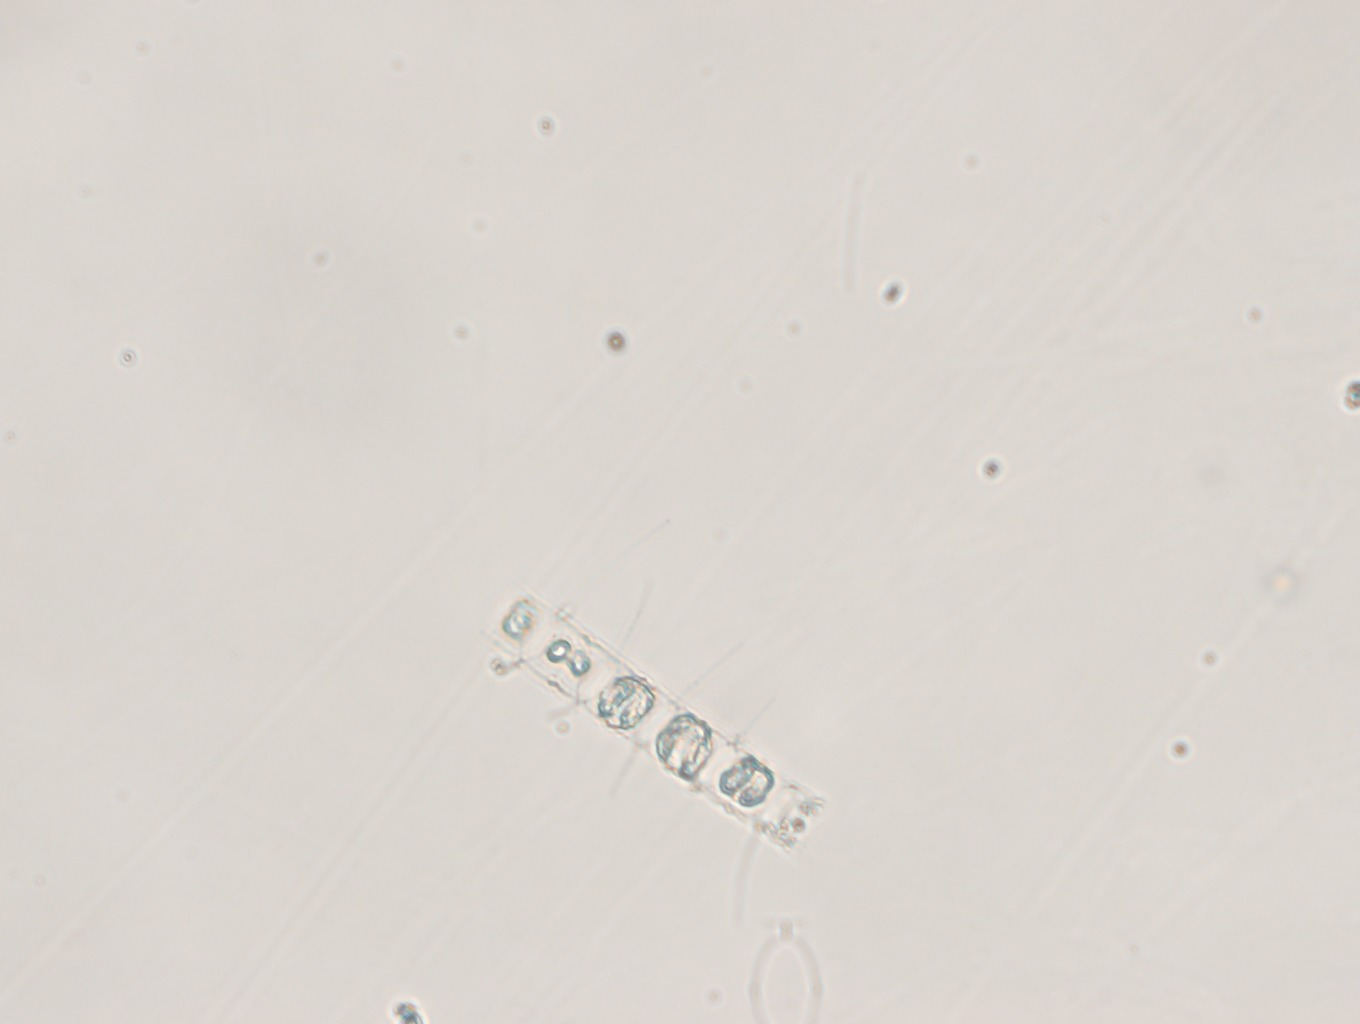chaetoceros: (458, 578, 855, 897)
